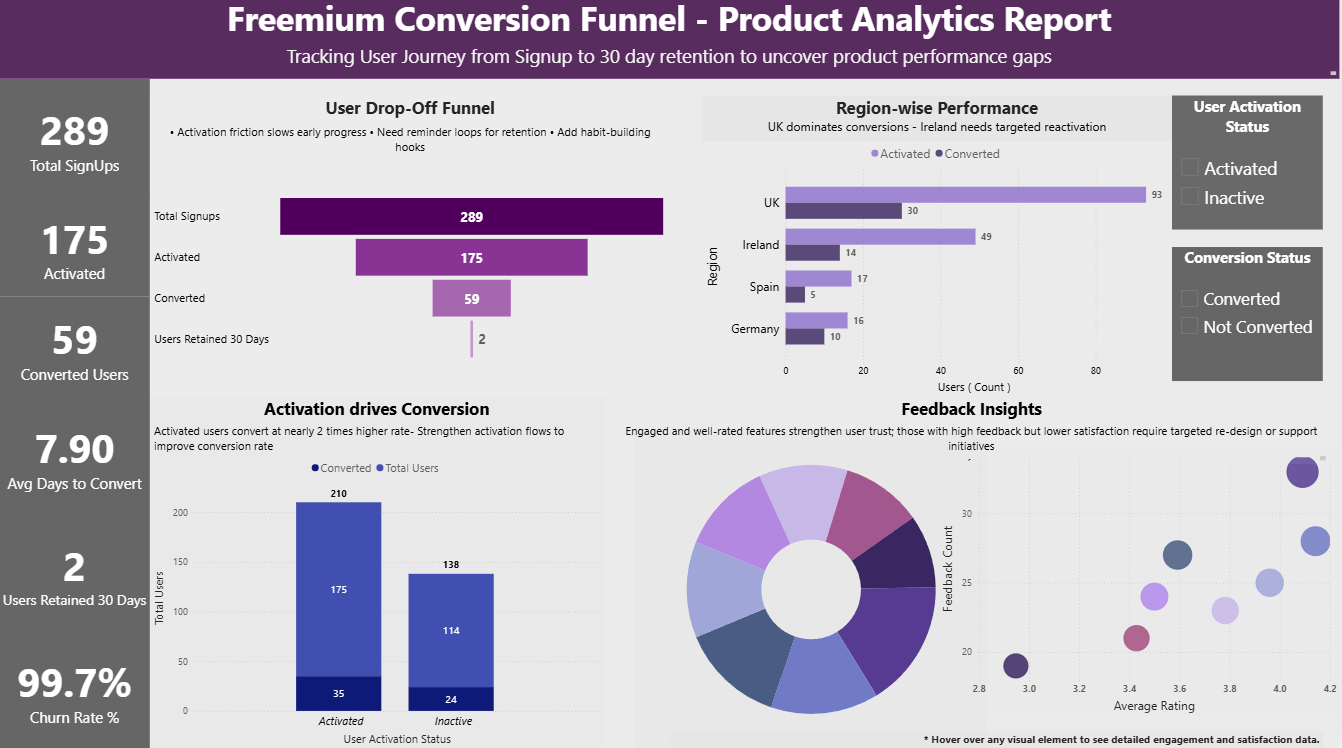

The page's visual inventory and layout, read from the dashboard file:
{"tool":"powerbi","page":{"name":"Page 1","canvas":[1920,1080],"ordinal":0},"visuals":[{"type":"card","fields":{"Values":["conversion_funnel.Activated"]},"box":[0,288,216,144],"z":1000},{"type":"card","fields":{"Values":["CountNonNull(conversion_funnel.user_id)"]},"box":[0,120,216,168],"z":2000},{"type":"card","fields":{"Values":["CountNonNull(conversion_funnel.conversion_date)"]},"box":[0,432,216,144],"z":3000},{"type":"card","fields":{"Values":["conversion_funnel.Users Retained 30 Days"]},"box":[0,744,216,168],"z":4000},{"type":"card","fields":{"Values":["conversion_funnel.Churn Rate %"]},"box":[0,912,216,168],"z":5000},{"type":"card","fields":{"Values":["Avg(conversion_funnel.days_to_convert)"]},"box":[0,576,216,168],"z":6000},{"type":"textbox","title":"Freemium Conversion Funnel - Product Analytics Report","box":[0,0,1920,120],"z":7000},{"type":"funnel","title":"User Drop-Off Funnel","fields":{"Y":["conversion_funnel.Total Signups","conversion_funnel.Activated","conversion_funnel.Converted","conversion_funnel.Users Retained 30 Days"]},"box":[216,144,744,432],"z":8000},{"type":"clusteredBarChart","title":"Region-wise Performance ","fields":{"Category":["conversion_funnel.region"],"Y":["conversion_funnel.Activated","conversion_funnel.Converted"]},"box":[1008,144,672,432],"z":9000},{"type":"slicer","title":"User Activation Status","fields":{"Values":["conversion_funnel.User Activation (Clean)"]},"box":[1680,144,216,192],"z":10000},{"type":"slicer","title":"Conversion Status","fields":{"Values":["conversion_funnel.Conversion Status"]},"box":[1680,360,216,192],"z":11000},{"type":"columnChart","title":"Activation drives Conversion","fields":{"Category":["conversion_funnel.User Activation Status"],"Y":["conversion_funnel.Converted","Count(conversion_funnel.user_id)"]},"box":[216,576,648,504],"z":12000},{"type":"donutChart","fields":{"Category":["feedback.feature_name"],"Y":["Count(feedback.feedback_id)"]},"box":[912,624,504,456],"z":15000},{"type":"scatterChart","title":"Feature Ratings vs Feedback Volume","fields":{"X":["Avg(feedback.rating)"],"Y":["CountNonNull(feedback.feedback_id)"],"Size":["CountNonNull(feedback.feedback_id)"],"Series":["feedback.feature_name"]},"box":[1344,648,576,384],"z":16000},{"type":"textbox","title":"Feedback Insights","box":[880,576,1024,96],"z":17000},{"type":"textbox","title":"* Hover over any visual element to see detailed engagement and satisfaction data.","box":[960,1056,936,24],"z":18000}]}

Visuals, with their boxes in screenshot pixels (x1, y1, x2, y2), scaled from the page's 1920x1080 canvas onto the 1342x748 screenshot:
card - conversion_funnel.Activated: (0,199,151,299)
card - CountNonNull(conversion_funnel.user_id): (0,83,151,199)
card - CountNonNull(conversion_funnel.conversion_date): (0,299,151,399)
card - conversion_funnel.Users Retained 30 Days: (0,515,151,632)
card - conversion_funnel.Churn Rate %: (0,632,151,747)
card - Avg(conversion_funnel.days_to_convert): (0,399,151,515)
"Freemium Conversion Funnel - Product Analytics Report" textbox: (0,0,1341,83)
"User Drop-Off Funnel" funnel: (151,100,671,399)
"Region-wise Performance " clusteredBarChart: (705,100,1174,399)
"User Activation Status" slicer: (1174,100,1325,233)
"Conversion Status" slicer: (1174,249,1325,382)
"Activation drives Conversion" columnChart: (151,399,604,747)
donutChart - feedback.feature_name x Count(feedback.feedback_id): (637,432,990,747)
"Feature Ratings vs Feedback Volume" scatterChart: (939,449,1341,715)
"Feedback Insights" textbox: (615,399,1331,465)
"* Hover over any visual element to see detailed engagement and satisfaction data." textbox: (671,731,1325,747)
